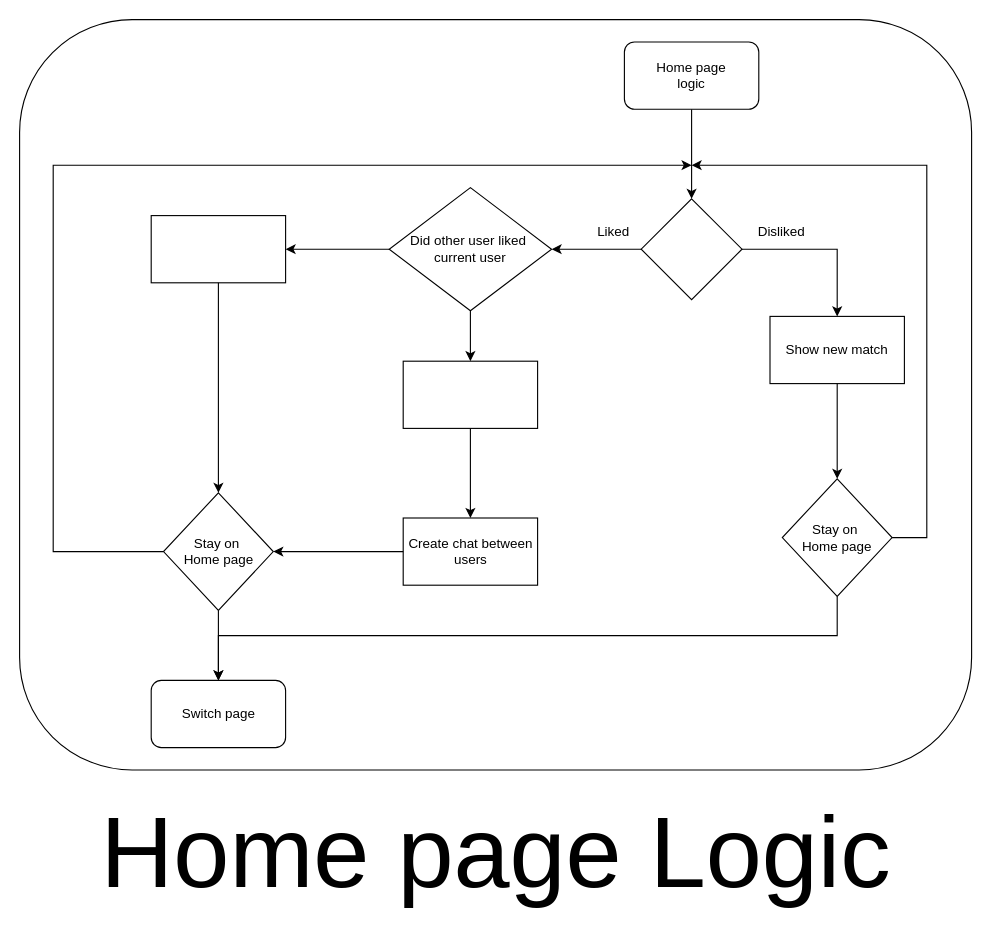
This 991x939 diagram has some shape labels left out. Each missing label, with the box of its shape:
Indicate miss much: (150, 214, 286, 283)
Like recomended match: (640, 198, 742, 300)
Send notification to users about match: (402, 360, 538, 428)
